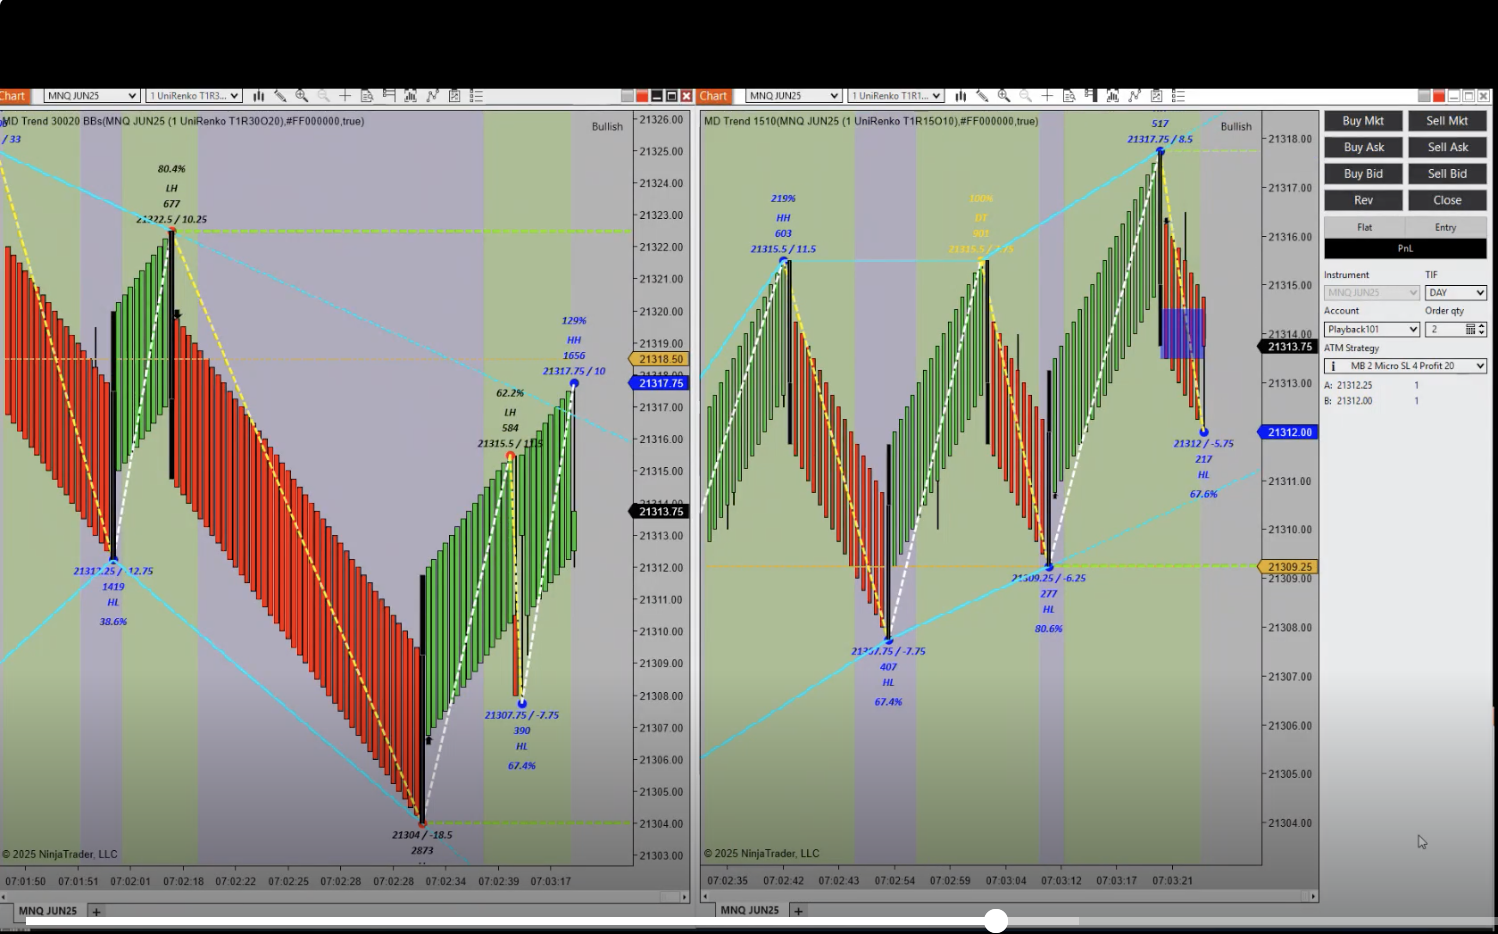candle: (421, 580, 430, 834), (885, 445, 894, 643), (168, 232, 175, 485), (111, 314, 118, 566), (787, 264, 795, 450), (1159, 150, 1165, 352), (1047, 376, 1054, 570), (987, 263, 991, 443)
